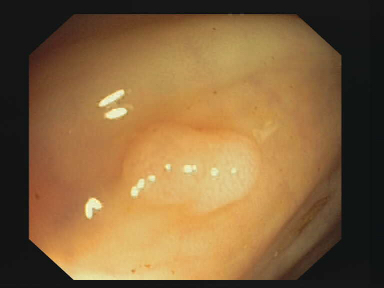polyp: (117, 120, 262, 212)
